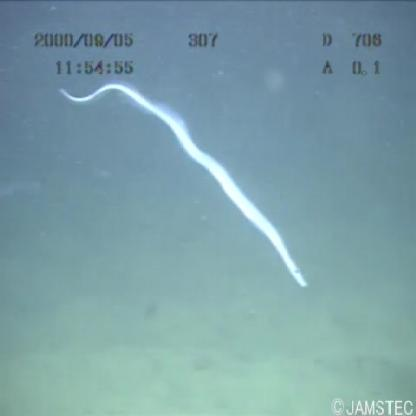Bio: (55, 79, 311, 297)
